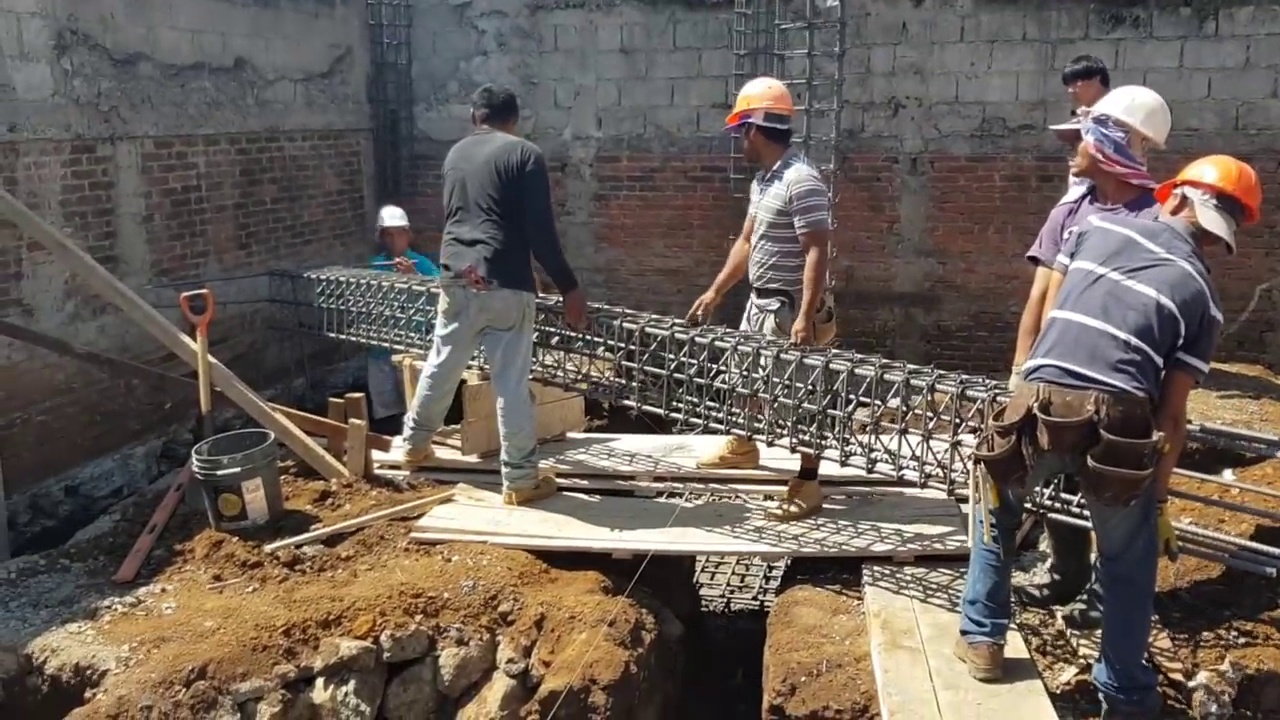helmet: (1160, 154, 1263, 232), (1066, 83, 1171, 155), (723, 77, 799, 138), (373, 206, 410, 231)
helmet-off: (1065, 50, 1116, 109), (468, 88, 518, 136)
helmet-on: (1053, 79, 1171, 216), (1156, 148, 1266, 252), (720, 78, 798, 173), (370, 205, 414, 257)
person: (957, 148, 1269, 710), (391, 88, 584, 505), (691, 71, 839, 492), (1008, 83, 1172, 393), (356, 201, 450, 462), (778, 449, 824, 529)
